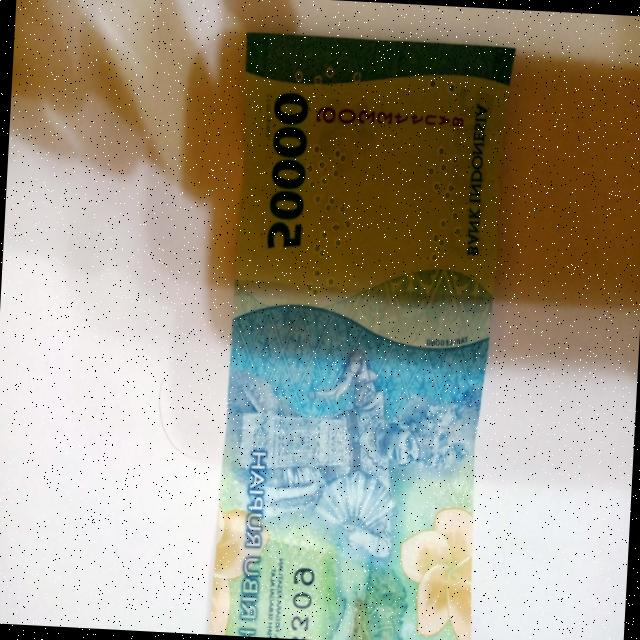50K: (190, 8, 527, 640)
